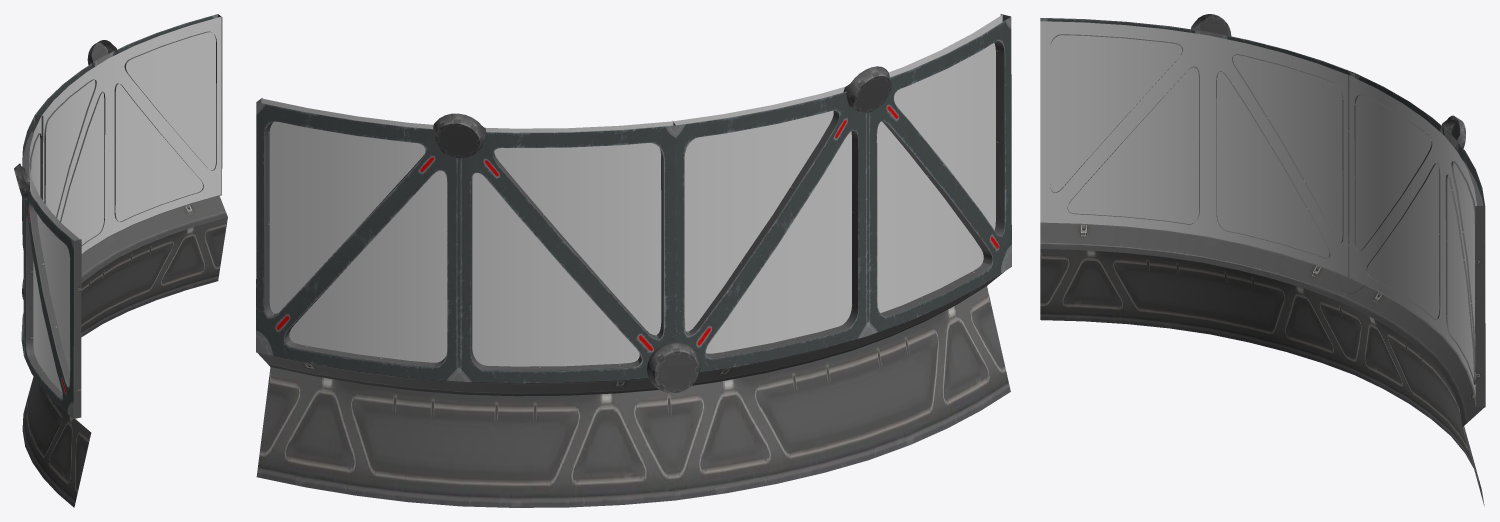
The model's file is WallWindow_Corner_Round_Outer.glb.
The picture shows the model from 3 angles, left to right: view 1: azimuth 30°, elevation 25°; view 2: azimuth 150°, elevation 25°; view 3: azimuth 270°, elevation 25°; orthographic projection. The views are drawn at different scales.
Parts seen in each view (by area): view 1: WallWindow_Corner_Round_Outer; view 2: WallWindow_Corner_Round_Outer; view 3: WallWindow_Corner_Round_Outer.
Boxes of the visible parts, x1,y1,x2,y2 form: WallWindow_Corner_Round_Outer: [14, 14, 227, 507]; WallWindow_Corner_Round_Outer: [256, 14, 1011, 507]; WallWindow_Corner_Round_Outer: [1040, 14, 1485, 506].
Size of the model in its own units: 4.01 by 3.16 by 4.01.
4 materials, 3 textured.
